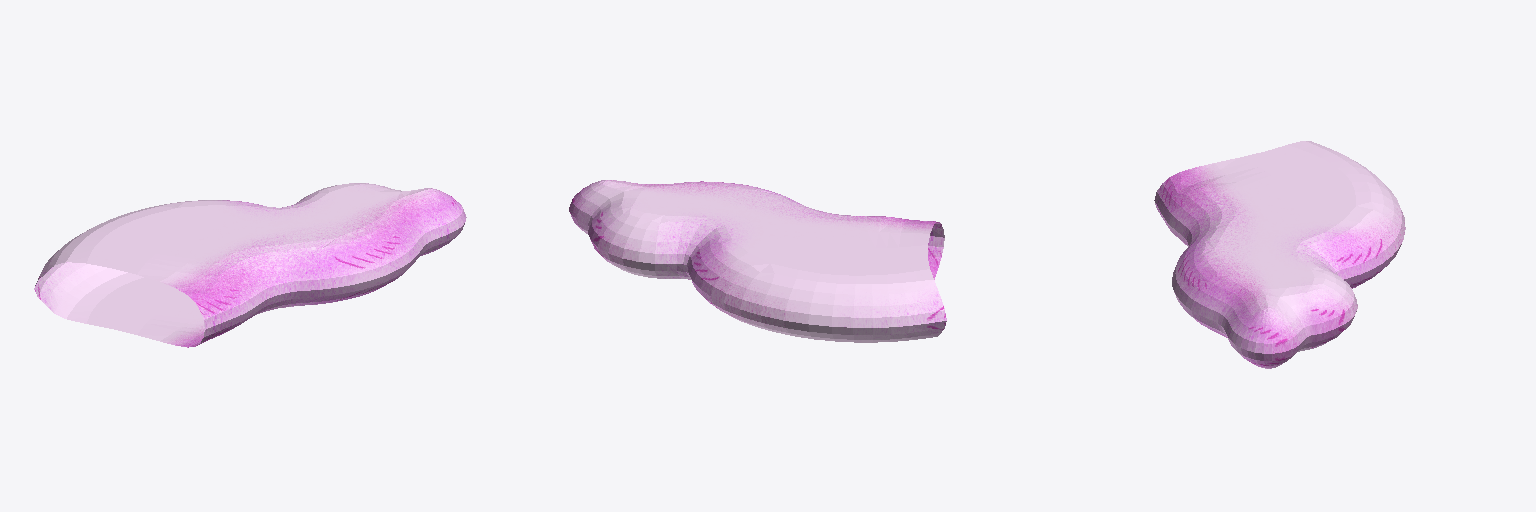
3 views of the same model, side by side, from view 1: azimuth 30°, elevation 25°; view 2: azimuth 150°, elevation 25°; view 3: azimuth 270°, elevation 25° (orthographic).
Visible parts, largest first — view 1: Cloud_B_nuki_2_Right; view 2: Cloud_B_nuki_2_Right; view 3: Cloud_B_nuki_2_Right.
Boxes of the visible parts, x1,y1,x2,y2 form: Cloud_B_nuki_2_Right: [34, 183, 466, 347]; Cloud_B_nuki_2_Right: [569, 180, 946, 342]; Cloud_B_nuki_2_Right: [1154, 141, 1405, 368].
Bounding box in the file's own units: 1.08 × 0.1561 × 0.5875.
1 materials, 1 textured.